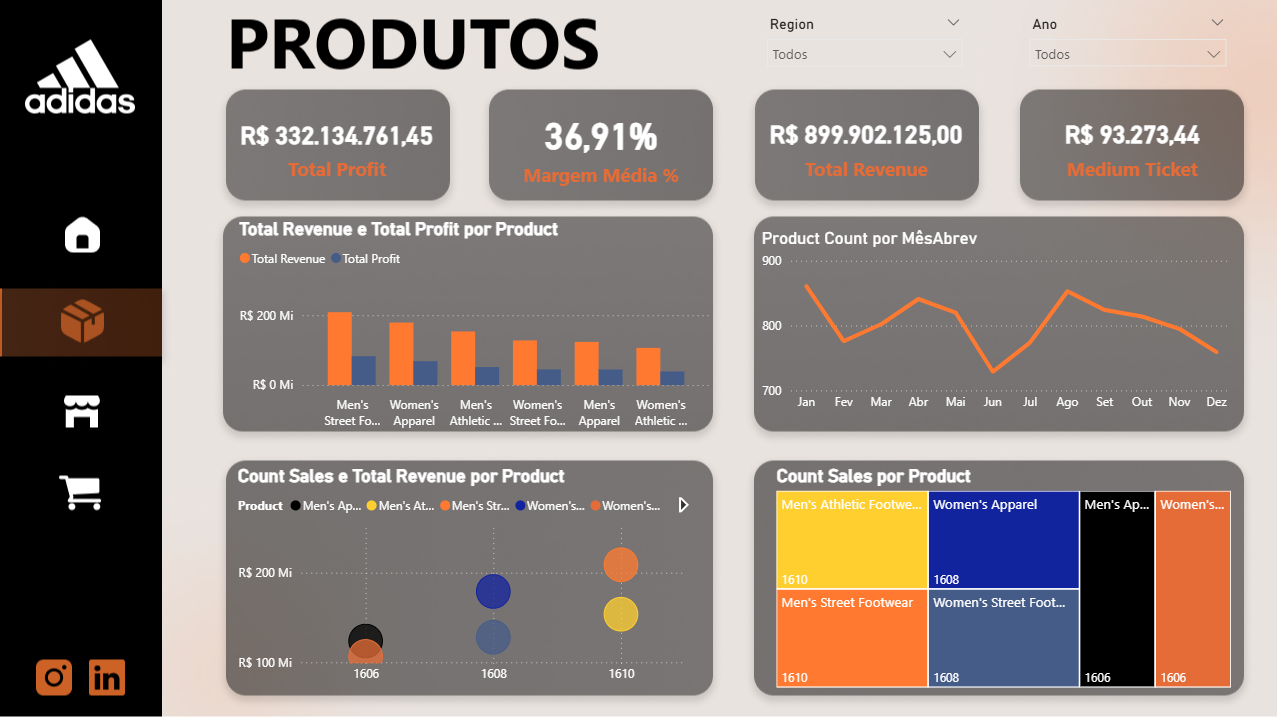

The page's visual inventory and layout, read from the dashboard file:
{"tool":"powerbi","page":{"name":"Produtos","canvas":[1280,720],"ordinal":2},"visuals":[{"type":"clusteredColumnChart","fields":{"Category":["Data Sales Adidas.Product"],"Y":["Medidas.Total Revenue","Medidas.Total Profit"]},"box":[235.7,218.6,481.4,218.6],"z":0},{"type":"treemap","fields":{"Values":["Medidas.Count Sales"],"Group":["Data Sales Adidas.Product"]},"box":[774.3,465.7,464.3,227.1],"z":1000},{"type":"scatterChart","fields":{"X":["Medidas.Count Sales"],"Y":["Medidas.Total Revenue"],"Series":["Data Sales Adidas.Product"]},"box":[235.5,466.4,470,227.3],"z":2000},{"type":"lineChart","fields":{"Category":["Datas.MêsAbrev"],"Y":["Medidas.Product Count"]},"box":[758.6,228.6,480,192.9],"z":3000},{"type":"slicer","fields":{"Values":["Data Sales Adidas.Region"]},"box":[758.6,11.4,215.7,84.3],"z":4000},{"type":"slicer","fields":{"Values":["Data Sales Adidas.Ano"]},"box":[1021.4,11.4,217.1,84.3],"z":5000},{"type":"card","fields":{"Values":["Medidas.Margem Média %"]},"box":[492,94,221.3,106],"z":6000},{"type":"card","fields":{"Values":["Medidas.Medium Ticket"]},"box":[1022,94,224,108],"z":7000},{"type":"card","fields":{"Values":["Medidas.Total Profit"]},"box":[227.5,95,223.3,105.8],"z":8000},{"type":"card","fields":{"Values":["Medidas.Total Revenue"]},"box":[759.2,93.8,219.2,107.7],"z":9000},{"type":"actionButton","box":[88.9,656.7,42.2,44.4],"z":10000},{"type":"actionButton","box":[35.6,656.7,42.2,44.4],"z":11000},{"type":"actionButton","box":[0,216.7,164.4,50],"z":12000},{"type":"actionButton","box":[0,385.6,164.4,50],"z":13000},{"type":"actionButton","box":[0,465.6,164.4,50],"z":14000}]}

Visuals, with their boxes in screenshot pixels (x1, y1, x2, y2), scaled from the page's 1280x720 canvas onto the 1277x717 screenshot:
clusteredColumnChart - Data Sales Adidas.Product x Medidas.Total Revenue: pyautogui.locateOnScreen(235, 218, 715, 435)
treemap - Medidas.Count Sales x Data Sales Adidas.Product: pyautogui.locateOnScreen(772, 464, 1236, 690)
scatterChart - Medidas.Count Sales x Medidas.Total Revenue: pyautogui.locateOnScreen(235, 464, 704, 691)
lineChart - Datas.MêsAbrev x Medidas.Product Count: pyautogui.locateOnScreen(757, 228, 1236, 420)
slicer - Data Sales Adidas.Region: pyautogui.locateOnScreen(757, 11, 972, 95)
slicer - Data Sales Adidas.Ano: pyautogui.locateOnScreen(1019, 11, 1236, 95)
card - Medidas.Margem Média %: pyautogui.locateOnScreen(491, 94, 712, 199)
card - Medidas.Medium Ticket: pyautogui.locateOnScreen(1020, 94, 1243, 201)
card - Medidas.Total Profit: pyautogui.locateOnScreen(227, 95, 450, 200)
card - Medidas.Total Revenue: pyautogui.locateOnScreen(757, 93, 976, 201)
actionButton: pyautogui.locateOnScreen(89, 654, 131, 698)
actionButton: pyautogui.locateOnScreen(36, 654, 78, 698)
actionButton: pyautogui.locateOnScreen(0, 216, 164, 266)
actionButton: pyautogui.locateOnScreen(0, 384, 164, 434)
actionButton: pyautogui.locateOnScreen(0, 464, 164, 513)
